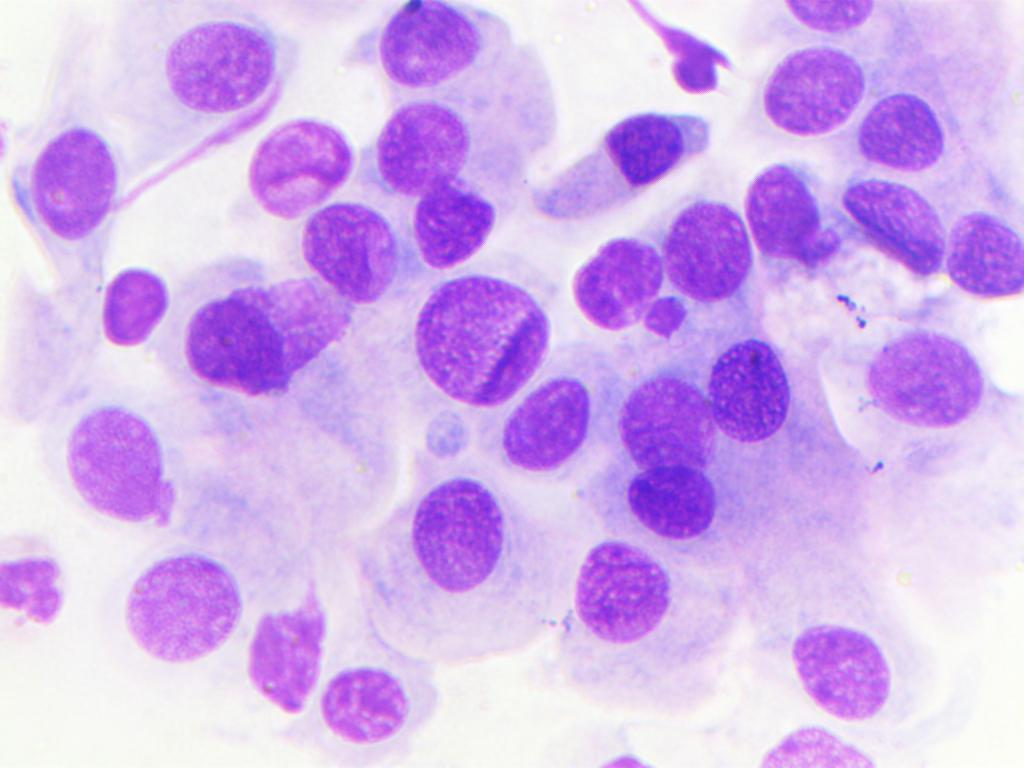artifact: (238, 581, 333, 717), (614, 4, 734, 96)
epithelial: (371, 469, 556, 648), (828, 298, 1004, 447), (528, 101, 713, 226), (407, 272, 554, 408), (575, 539, 704, 675), (113, 548, 246, 675), (762, 617, 906, 729), (64, 397, 175, 531), (183, 279, 285, 409), (163, 15, 288, 117), (837, 174, 947, 288), (234, 113, 354, 217), (740, 152, 842, 273), (743, 43, 867, 139), (27, 128, 125, 243), (293, 203, 400, 306), (607, 368, 708, 473), (702, 332, 791, 451), (562, 223, 660, 331), (661, 192, 755, 303), (311, 653, 423, 745), (374, 0, 489, 89), (362, 99, 471, 189), (416, 180, 513, 271), (846, 89, 953, 168), (500, 381, 589, 470), (612, 474, 722, 543), (948, 206, 1023, 305), (91, 262, 173, 347), (746, 722, 878, 768), (780, 0, 882, 34)
neutrophil: (0, 541, 64, 629)
